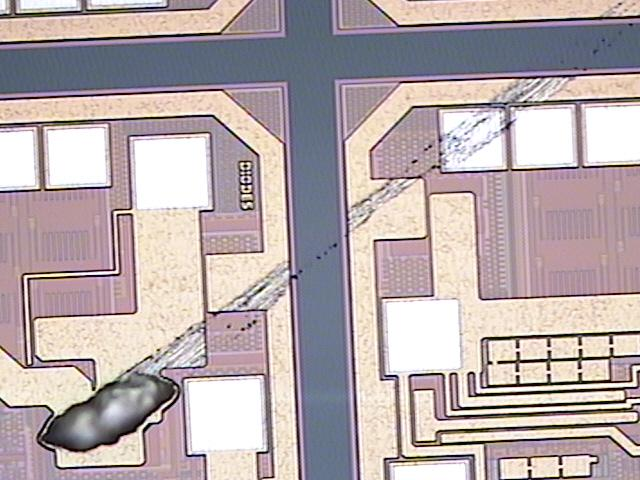SCRATCH: (34, 1, 640, 459)
